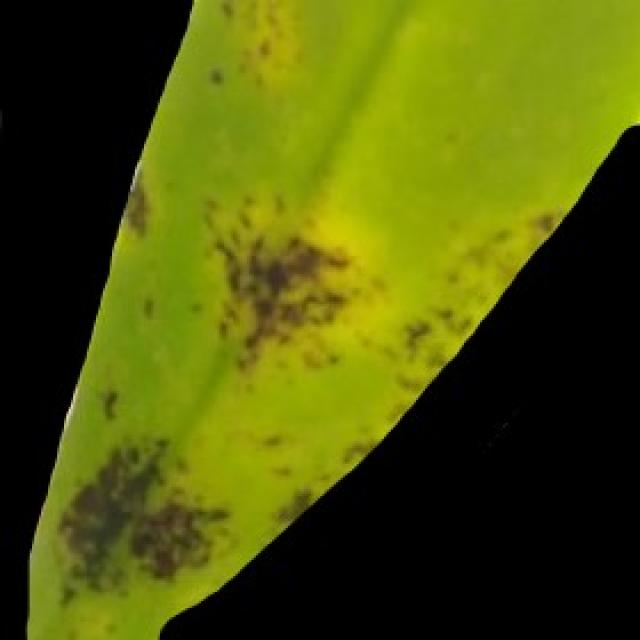mite: (128, 496, 210, 581), (94, 379, 126, 425), (400, 315, 432, 350), (201, 62, 229, 89), (98, 386, 119, 421), (254, 34, 272, 57), (206, 64, 224, 85), (217, 0, 235, 18)
spots: (21, 0, 638, 638)
sunburn: (197, 185, 359, 375)
